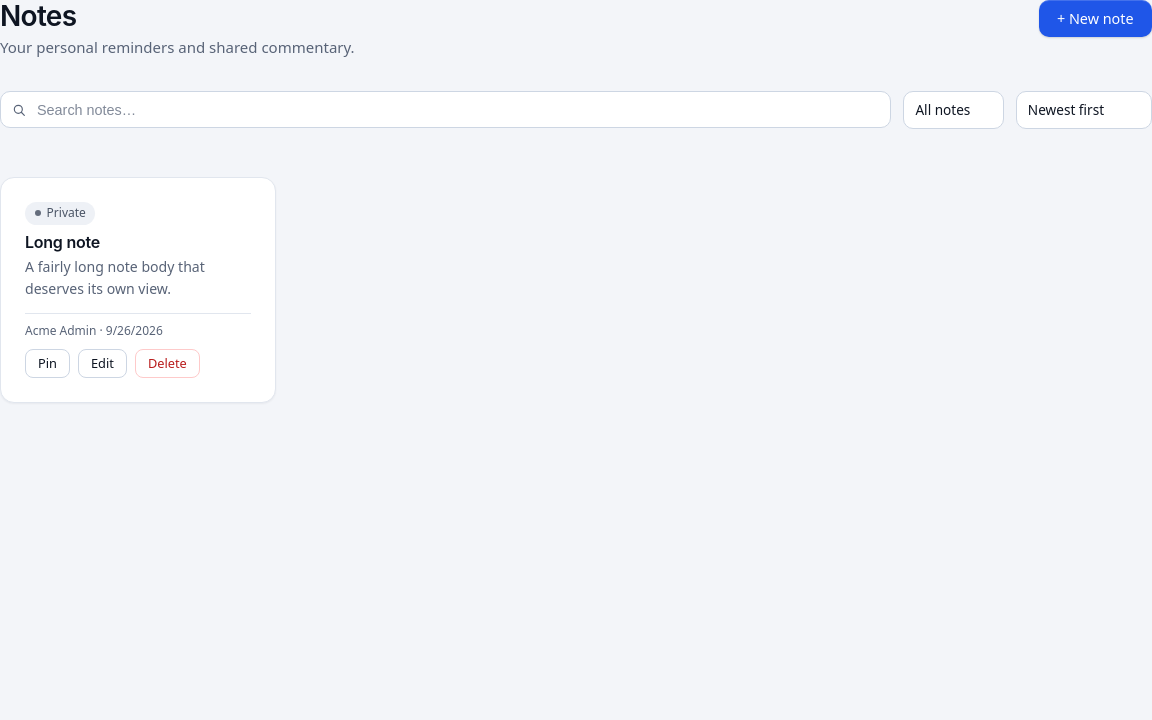
Scenario: NotesPage › opens a note's detail view when its card is clicked
Click the heading "Long note": (62,242) [25, 232, 100, 252]
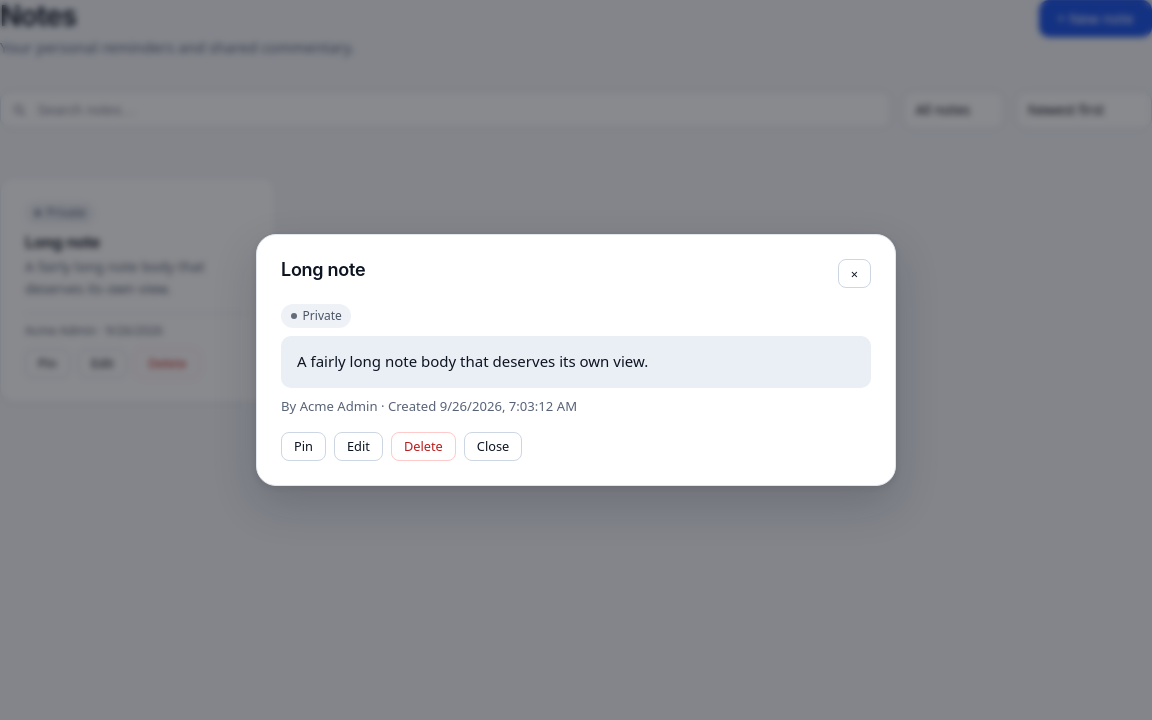
Now the text "A fairly long note body that deserves its own view." is shown, box [281, 336, 871, 388]
